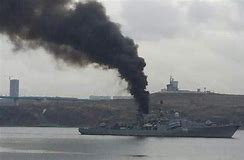smoke: (1, 1, 150, 114)
